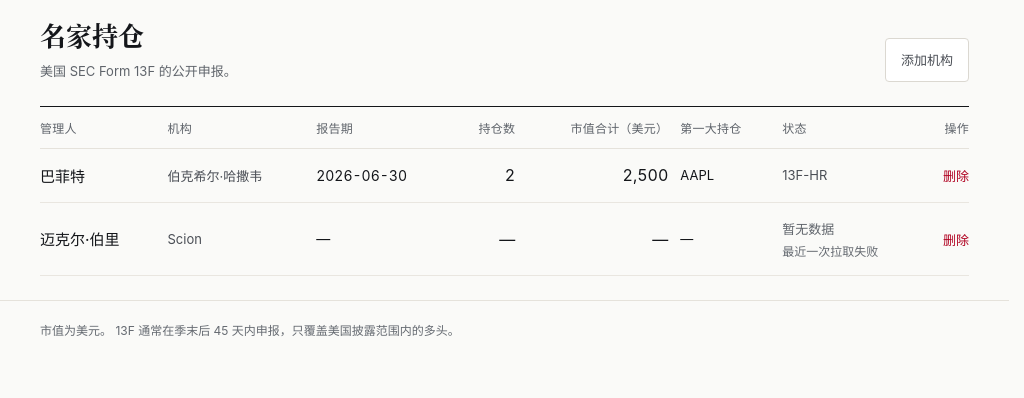
Test: 删除接口失败时名单还在，只提示删除失败
Click the button with aria-label "删除 巴菲特" at (956, 176), box x1=943 y1=166 x2=969 y2=185
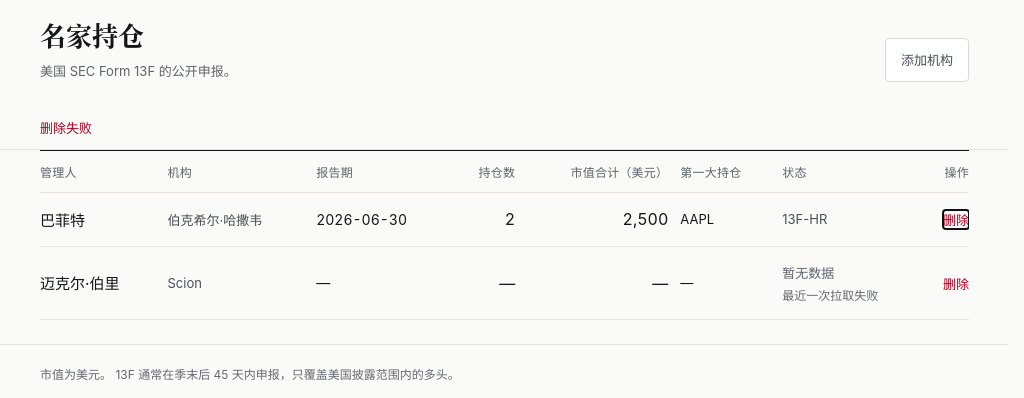
Expected: the heading "名家持仓" is shown, x1=40 y1=16 x2=144 y2=53
Expected: the text "删除失败" is shown, x1=0 y1=106 x2=1009 y2=150
